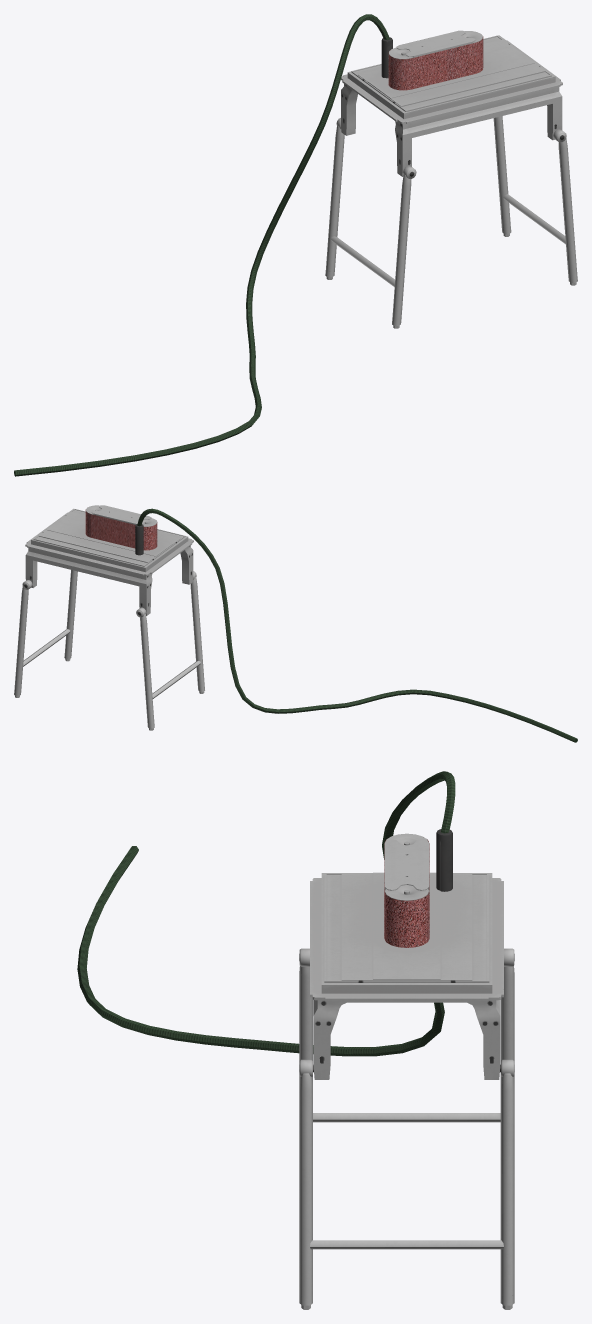
The model's file is damoji.fbx.
3 renders of one model, top to bottom at view 1: azimuth 30°, elevation 25°; view 2: azimuth 150°, elevation 25°; view 3: azimuth 270°, elevation 25°, orthographic. The views are drawn at different scales.
Visible parts, largest first — view 1: damoji, damoji01; view 2: damoji, damoji01; view 3: damoji, damoji01.
Boxes of the visible parts, left/top/right/bottom form: damoji: left=14, top=14, right=577, bottom=476; damoji01: left=388, top=36, right=483, bottom=90; damoji: left=14, top=505, right=577, bottom=742; damoji01: left=85, top=509, right=157, bottom=550; damoji: left=77, top=771, right=514, bottom=1309; damoji01: left=384, top=839, right=429, bottom=947.
Bounding box in the file's own units: 2297 × 971 × 928.
